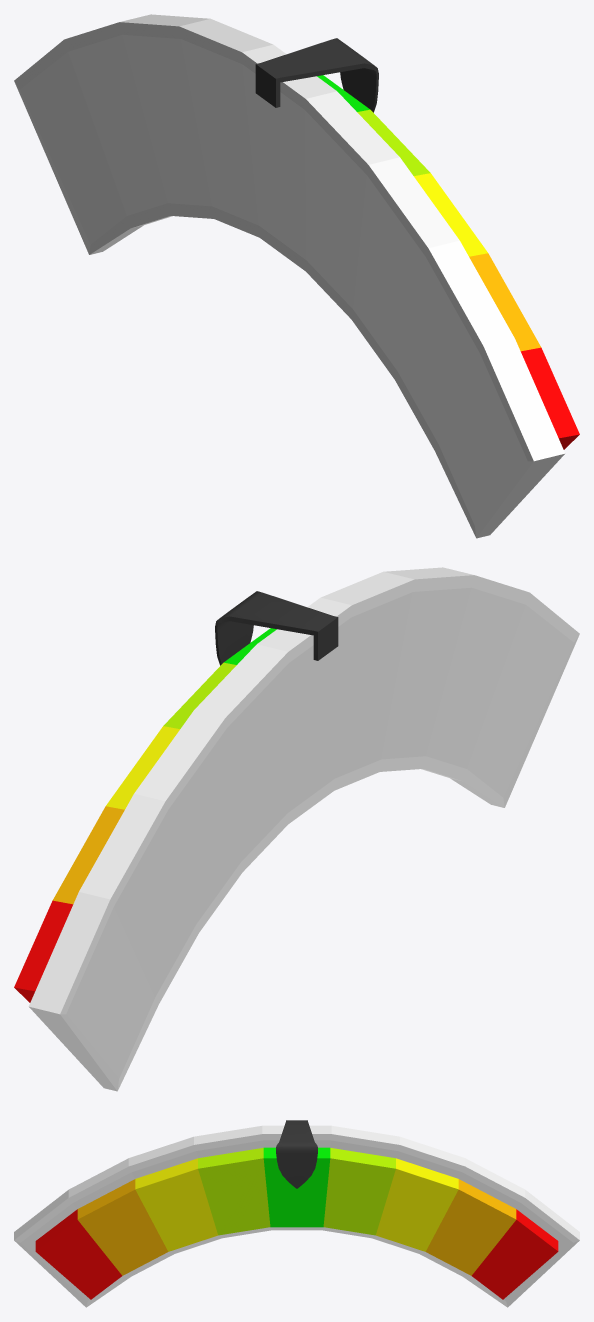
File: indicatorr.fbx
The picture shows the model from 3 angles, top to bottom: view 1: azimuth 30°, elevation 25°; view 2: azimuth 150°, elevation 25°; view 3: azimuth 270°, elevation 25°; orthographic projection. The views are drawn at different scales.
Parts seen in each view (by area): view 1: arkabeyaz, ibre; view 2: arkabeyaz, ibre; view 3: arkabeyaz, ibre.
Boxes of the visible parts, x1,y1,x2,y2 form: arkabeyaz: (14, 14, 579, 538); ibre: (255, 38, 378, 112); arkabeyaz: (14, 567, 579, 1091); ibre: (215, 591, 338, 665); arkabeyaz: (14, 1125, 579, 1307); ibre: (276, 1120, 317, 1188).
Bounding box in the file's own units: 0.4533 × 1.51 × 4.33.
